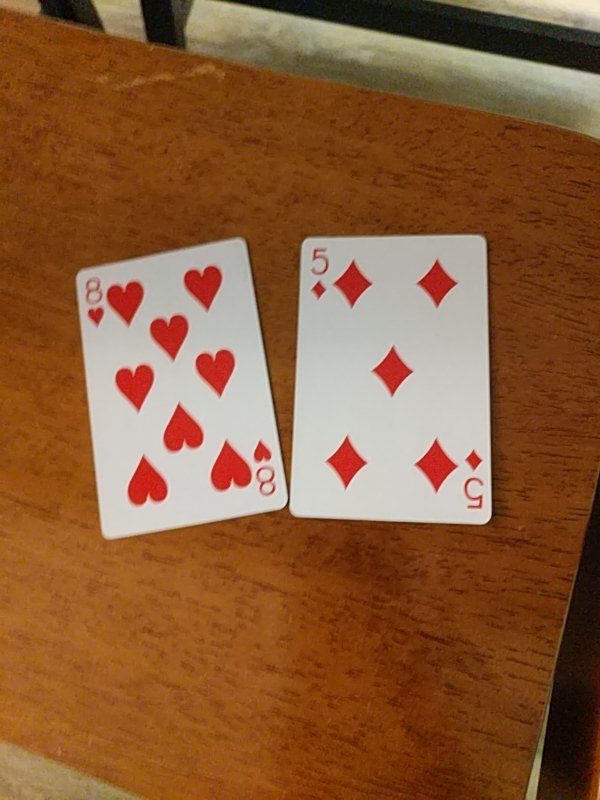Diamonds: (290, 236, 489, 519)
Hearts: (74, 238, 288, 535)
